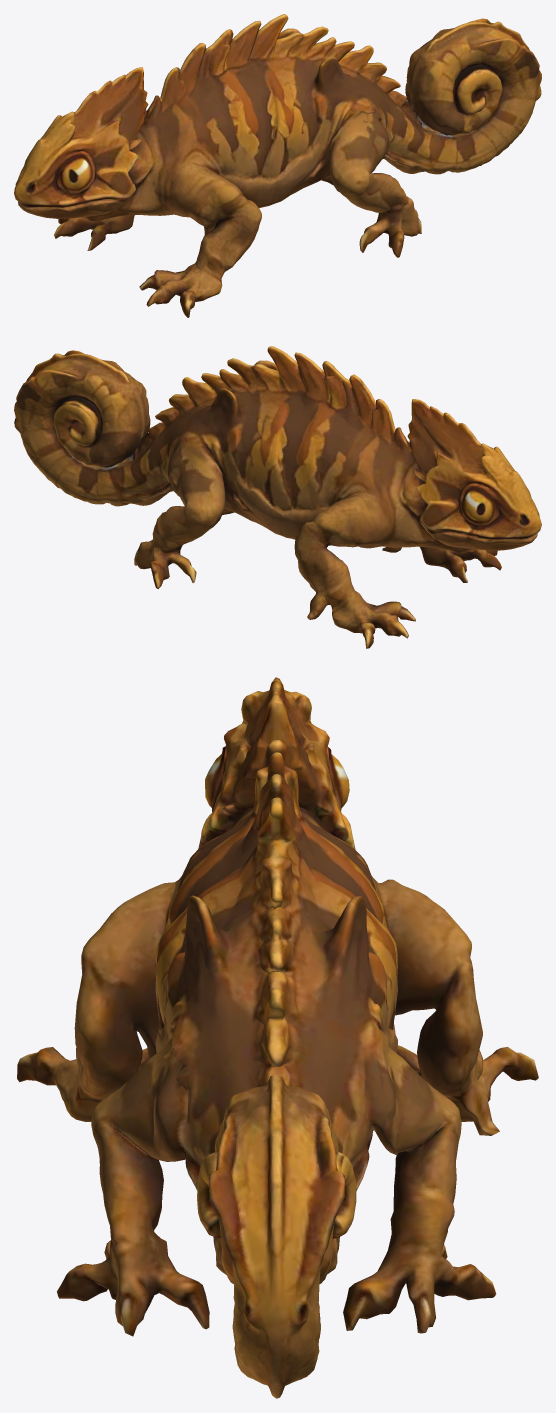
The model's file is desert-scout.glb.
3 views of the same model, one above another, from view 1: azimuth 30°, elevation 25°; view 2: azimuth 150°, elevation 25°; view 3: azimuth 270°, elevation 25° (orthographic). The views are drawn at different scales.
Parts seen in each view (by area): view 1: tripo_node_992e60f8-6b81-436e-93bc-4c93bc907c63; view 2: tripo_node_992e60f8-6b81-436e-93bc-4c93bc907c63; view 3: tripo_node_992e60f8-6b81-436e-93bc-4c93bc907c63.
Part boxes in pixels (box(x1,y1,x2,y2)): tripo_node_992e60f8-6b81-436e-93bc-4c93bc907c63: box(14, 14, 541, 317); tripo_node_992e60f8-6b81-436e-93bc-4c93bc907c63: box(14, 346, 541, 648); tripo_node_992e60f8-6b81-436e-93bc-4c93bc907c63: box(17, 677, 538, 1398).
Bounding box in the file's own units: 1 × 0.3992 × 0.4331.
1 material, 1 textured.
